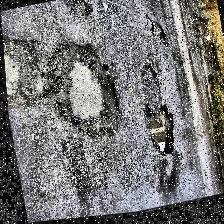pothole: (2, 18, 124, 154), (139, 106, 178, 162), (155, 24, 170, 50), (143, 16, 157, 38)
